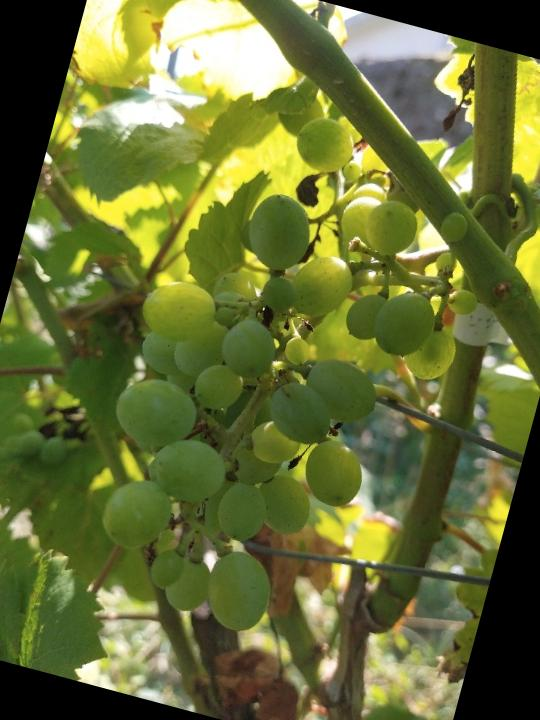grape: (64, 65, 513, 672)
